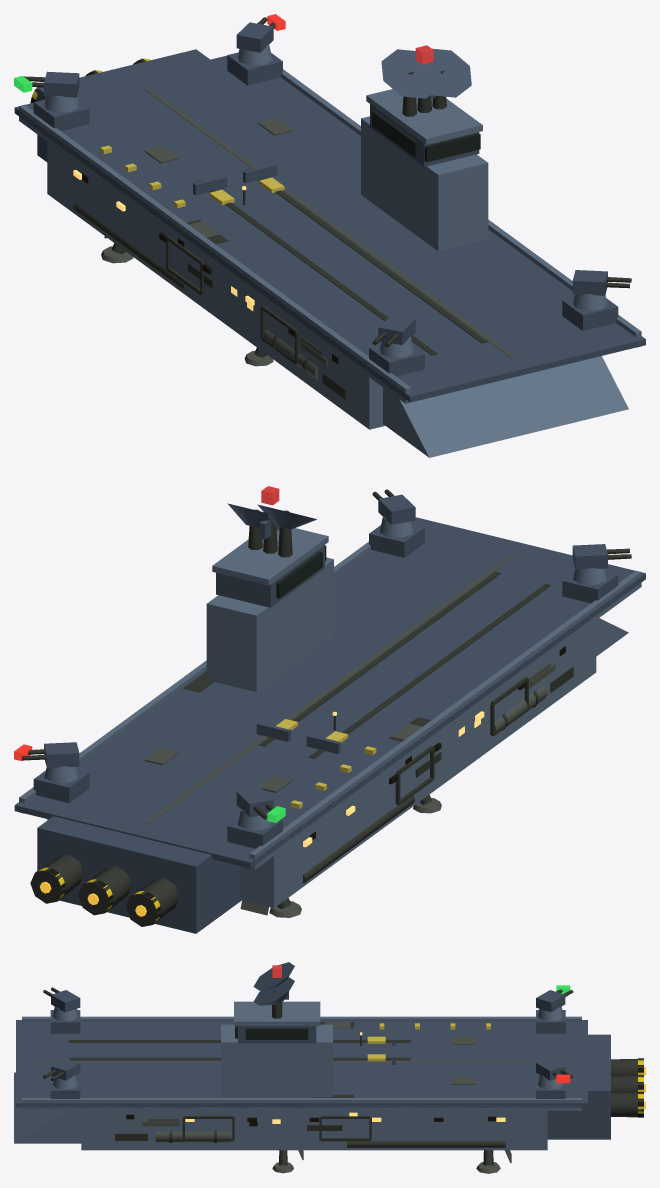
File: carrier-m.glb
The picture shows the model from 3 angles, top to bottom: view 1: azimuth 30°, elevation 25°; view 2: azimuth 150°, elevation 25°; view 3: azimuth 270°, elevation 25°; orthographic projection. The views are drawn at different scales.
Visible parts, largest first — view 1: flightDeck, hullMain, hullBow, hullNose, deckEdgeL, islandRoof, islandDish0, hullStern, deckEdgeR, accentStripe, launchRail1, islandDish2 (+13 smaller); view 2: flightDeck, hullMain, hullStern, hullNose, deckEdgeL, engineHousing (×3), islandRoof, accentStripe, deckEdgeR, bridgeCab, launchRail0, launchRail1 (+12 smaller); view 3: flightDeck, hullMain, hullNose, deckEdgeR, hullStern, deckEdgeL, hullBow, islandRoof, engineHousing (×3), accentStripe, carrierShiphullMainServicePipeR, launchRail1 (+14 smaller).
Part boxes in pixels (<box>): flightDeck: <box>14,55,645,402</box>; hullMain: <box>47,142,385,429</box>; hullBow: <box>383,356,628,457</box>; hullNose: <box>361,116,488,251</box>; deckEdgeL: <box>19,104,411,403</box>; islandRoof: <box>366,89,482,144</box>; islandDish0: <box>381,49,441,98</box>; hullStern: <box>37,49,209,161</box>; deckEdgeR: <box>281,69,641,347</box>; accentStripe: <box>145,88,514,357</box>; launchRail1: <box>246,168,487,343</box>; islandDish2: <box>431,48,471,97</box>; flightDeck: <box>14,517,645,868</box>; hullMain: <box>47,620,596,908</box>; hullStern: <box>37,816,241,933</box>; hullNose: <box>206,557,333,692</box>; deckEdgeL: <box>249,570,641,869</box>; engineHousing (×3): <box>30,854,179,926</box>; islandRoof: <box>212,528,328,585</box>; accentStripe: <box>145,554,514,823</box>; deckEdgeR: <box>19,541,370,813</box>; bridgeCab: <box>216,545,324,607</box>; launchRail0: <box>309,583,550,758</box>; launchRail1: <box>259,571,500,746</box>; flightDeck: <box>16,1020,587,1107</box>; hullMain: <box>81,1111,547,1150</box>; hullNose: <box>221,1024,332,1097</box>; deckEdgeR: <box>22,1098,581,1110</box>; hullStern: <box>547,1034,610,1139</box>; deckEdgeL: <box>22,1016,581,1021</box>; hullBow: <box>14,1072,81,1143</box>; islandRoof: <box>234,1001,320,1025</box>; engineHousing (×3): <box>611,1059,643,1117</box>; accentStripe: <box>37,1060,566,1062</box>; carrierShiphullMainServicePipeR: <box>347,1141,505,1147</box>; launchRail1: <box>68,1057,410,1060</box>.
Size of the model in its own units: 3.69 by 3.71 by 10.67.
